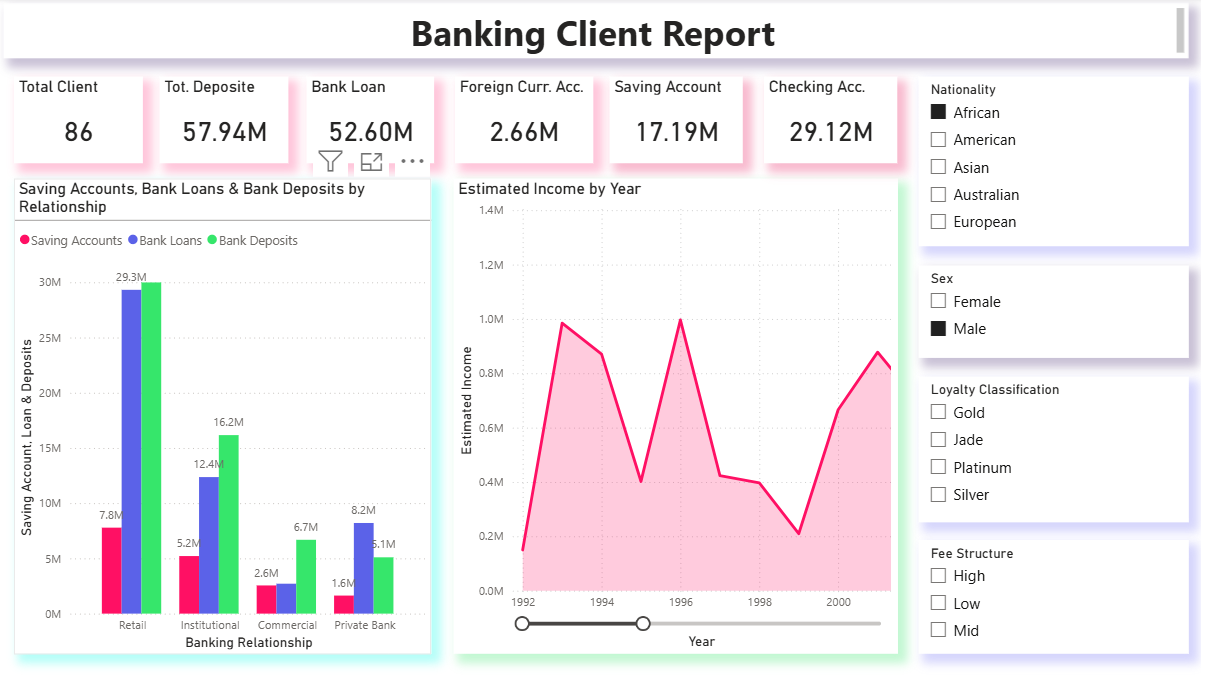

What the dashboard file says about the page in this screenshot:
{"tool":"powerbi","page":{"name":"Summery","canvas":[1280,720],"ordinal":0},"visuals":[{"type":"textbox","box":[11.3,5.7,1256.7,58.6],"z":0},{"type":"card","title":"Total Client","fields":{"Values":["Banking_Clients.Total Client"]},"box":[22.5,83.7,136.8,91.7],"z":1000},{"type":"card","title":"Tot. Deposite","fields":{"Values":["Sum(Banking_Clients.Bank Deposits)"]},"box":[177,83.7,136.8,91.7],"z":2000},{"type":"card","title":"Bank Loan","fields":{"Values":["Sum(Banking_Clients.Bank Loans)"]},"box":[333.1,83.7,135.2,91.7],"z":3000},{"type":"card","title":"Foreign  Curr. Acc.","fields":{"Values":["Sum(Banking_Clients.Foreign Currency Account)"]},"box":[489.3,83.7,146.5,91.7],"z":4000},{"type":"card","title":"Saving Account","fields":{"Values":["Sum(Banking_Clients.Saving Accounts)"]},"box":[653.4,83.7,141.6,91.7],"z":5000},{"type":"slicer","fields":{"Values":["Banking_Clients.Nationality"]},"box":[981.7,83.7,286.5,180.3],"z":6000},{"type":"slicer","fields":{"Values":["Banking_Clients.Sex"]},"box":[981.7,284.9,286.5,98.2],"z":7000},{"type":"slicer","fields":{"Values":["Banking_Clients.Loyalty Classification"]},"box":[981.7,402.3,286.5,154.5],"z":8000},{"type":"slicer","fields":{"Values":["Banking_Clients.Fee Structure"]},"box":[981.7,576.2,286.5,120.7],"z":9000},{"type":"clusteredColumnChart","title":"Saving Accounts, Bank Loans & Bank Deposits by Relationship","fields":{"Category":["Banking_Clients.Banking Relationship"],"Y":["Sum(Banking_Clients.Saving Accounts)","Sum(Banking_Clients.Bank Loans)","Sum(Banking_Clients.Bank Deposits)"]},"box":[22.5,193.1,442.6,503.7],"z":10000},{"type":"stackedAreaChart","title":"Estimated Income by Year","fields":{"Category":["Banking_Clients.Joined Bank.Variation.Date Hierarchy.Year"],"Y":["Sum(Banking_Clients.Estimated Income)"]},"box":[487.6,193.1,471.6,503.7],"z":11000},{"type":"card","title":"Checking Acc.","fields":{"Values":["Sum(Banking_Clients.Checking Accounts)"]},"box":[817.6,83.7,141.6,91.7],"z":12000}]}

Visuals, with their boxes in screenshot pixels (x1, y1, x2, y2), scaled from the page's 1280x720 canvas onto the 1212x678 screenshot:
textbox: x1=11, y1=5, x2=1201, y2=61
"Total Client" card: x1=21, y1=79, x2=151, y2=165
"Tot. Deposite" card: x1=168, y1=79, x2=297, y2=165
"Bank Loan" card: x1=315, y1=79, x2=443, y2=165
"Foreign  Curr. Acc." card: x1=463, y1=79, x2=602, y2=165
"Saving Account" card: x1=619, y1=79, x2=753, y2=165
slicer - Banking_Clients.Nationality: x1=930, y1=79, x2=1201, y2=249
slicer - Banking_Clients.Sex: x1=930, y1=268, x2=1201, y2=361
slicer - Banking_Clients.Loyalty Classification: x1=930, y1=379, x2=1201, y2=524
slicer - Banking_Clients.Fee Structure: x1=930, y1=543, x2=1201, y2=656
"Saving Accounts, Bank Loans & Bank Deposits by Relationship" clusteredColumnChart: x1=21, y1=182, x2=440, y2=656
"Estimated Income by Year" stackedAreaChart: x1=462, y1=182, x2=908, y2=656
"Checking Acc." card: x1=774, y1=79, x2=908, y2=165
